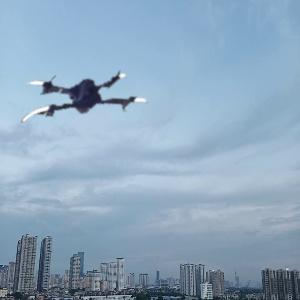drone: (20, 47, 147, 174)
